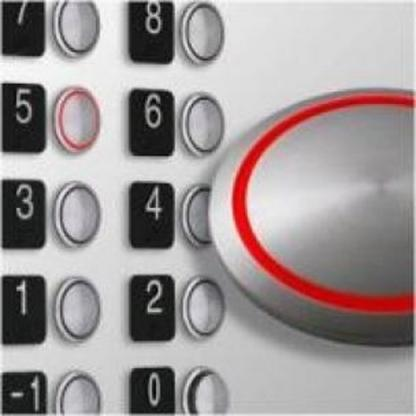-1: (0, 368, 49, 415)
0: (126, 364, 175, 415)
1: (0, 271, 48, 347)
2: (124, 270, 176, 344)
3: (0, 176, 46, 250)
4: (124, 178, 176, 251)
5: (0, 80, 46, 154)
6: (124, 83, 175, 160)
7: (0, 0, 46, 58)
8: (124, 0, 175, 67)
empty: (50, 81, 102, 155), (48, 178, 102, 249), (50, 272, 102, 345), (176, 271, 227, 344), (176, 88, 225, 160), (176, 0, 226, 68), (48, 0, 102, 59), (49, 367, 106, 415), (178, 364, 229, 415)
